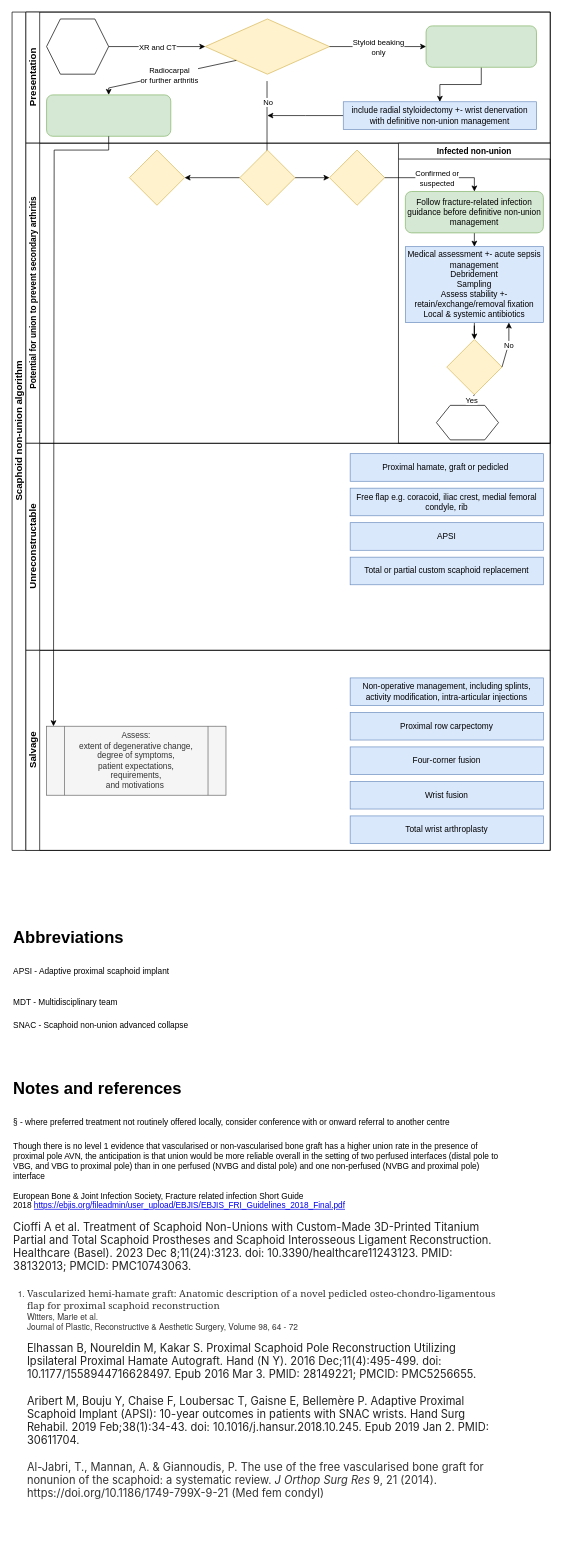
The diagram is 562 pixels wide and 1551 high, and some of its shapes have lost their labels. Here are the shapes that lost their labels. From the top down, the centre of each, then its label:
At (x=77, y=46): "Scaphoid non-union".
At (x=267, y=46): "Degenerative change?".
At (x=480, y=46): "SNAC Stage 1 Can be managed alongside non-union management".
At (x=108, y=115): "Advanced SNAC degeneration Not treatable/reversable by non-union surgery".
At (x=267, y=177): "Previous surgery?".
At (x=357, y=177): "Infected?".
At (x=474, y=367): "Resolution?".
At (x=467, y=422): "Return to start".
